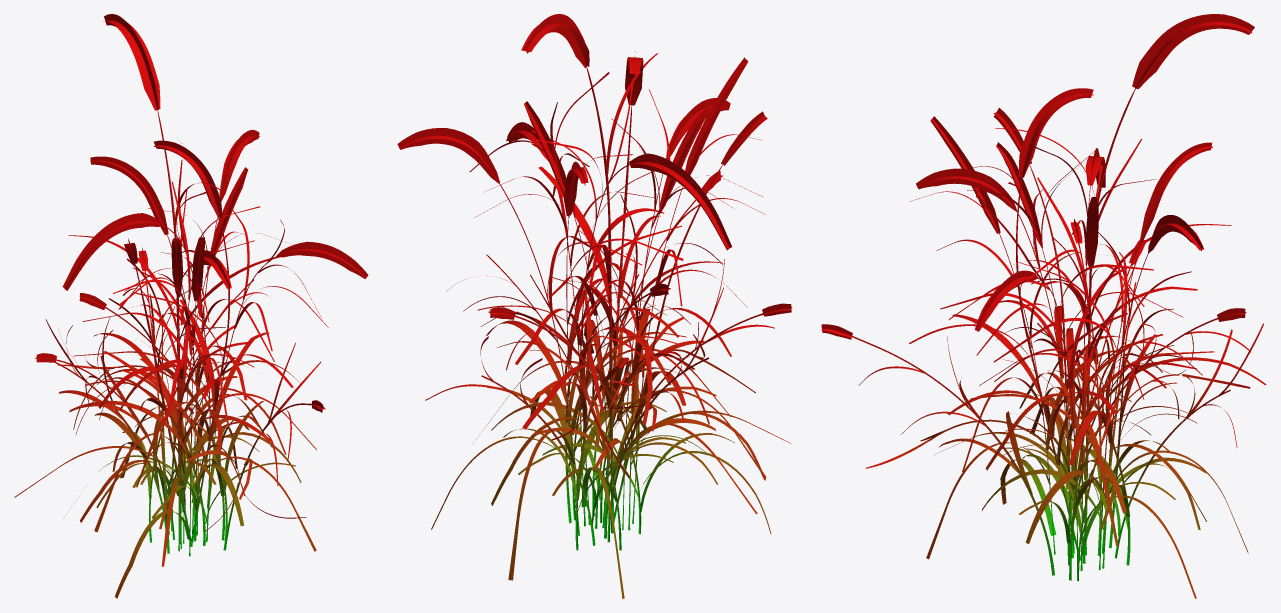
The model's file is slglZ_Var2_LOD0.fbx.
The picture shows the model from 3 angles, left to right: view 1: azimuth 30°, elevation 25°; view 2: azimuth 150°, elevation 25°; view 3: azimuth 270°, elevation 25°; orthographic projection. The views are drawn at different scales.
Visible parts, largest first — view 1: _b83f_Var2_LOD0; view 2: _b83f_Var2_LOD0; view 3: _b83f_Var2_LOD0.
Part boxes in pixels (bbox=[...]): _b83f_Var2_LOD0: bbox=[14, 14, 368, 598]; _b83f_Var2_LOD0: bbox=[397, 14, 792, 598]; _b83f_Var2_LOD0: bbox=[821, 14, 1266, 598].
Bounding box in the file's own units: 39.47 × 62.16 × 45.98.
